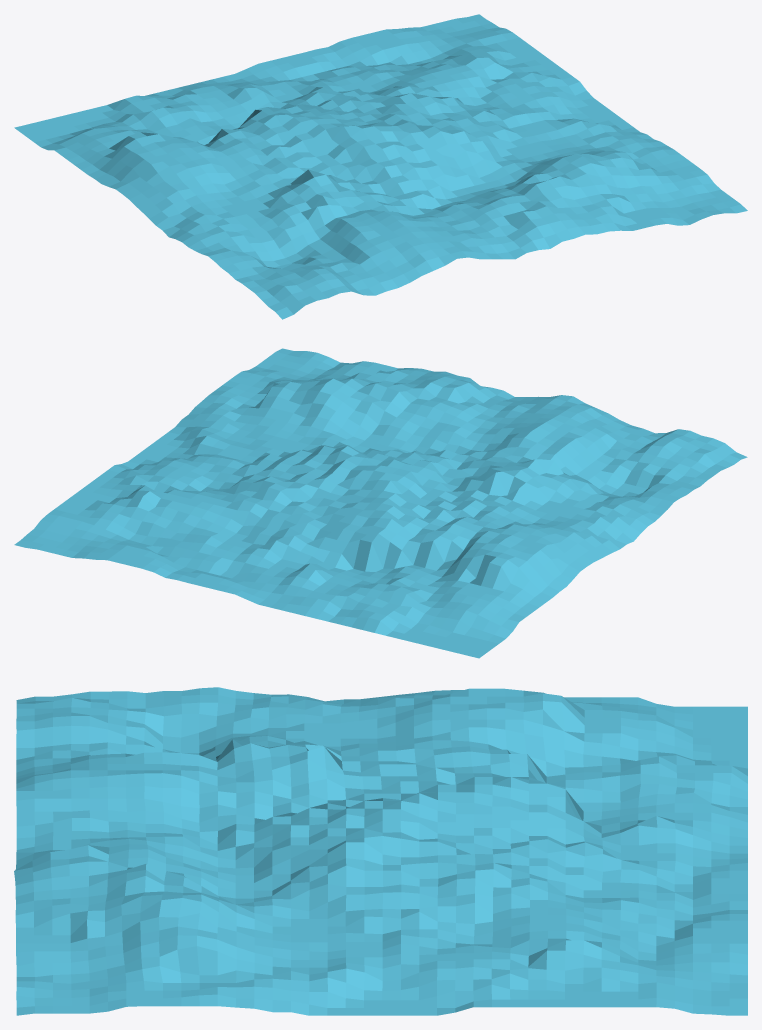
The model's file is water.fbx.
The picture shows the model from 3 angles, top to bottom: view 1: azimuth 30°, elevation 25°; view 2: azimuth 150°, elevation 25°; view 3: azimuth 270°, elevation 25°; orthographic projection. The views are drawn at different scales.
Parts seen in each view (by area): view 1: Plane; view 2: Plane; view 3: Plane.
Boxes of the visible parts, x1,y1,x2,y2 form: Plane: (14,14,747,319); Plane: (14,348,747,658); Plane: (14,687,747,1015).
Size of the model in its own units: 401 by 31.68 by 401.
